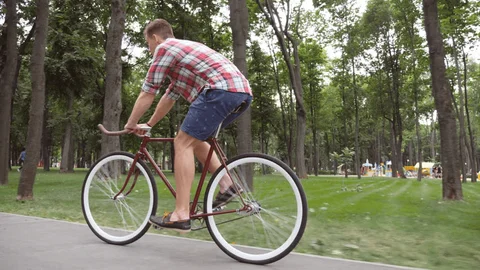bike: (80, 99, 309, 266)
person: (124, 15, 253, 234)
